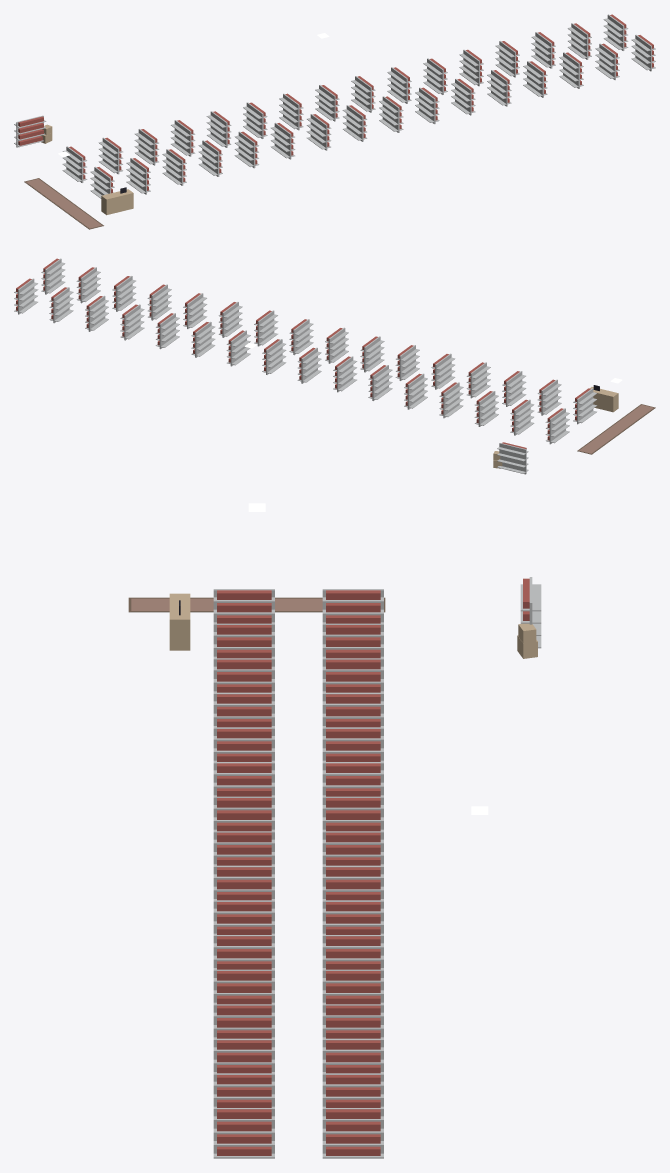
File: fine-s0.glb
The picture shows the model from 3 angles, top to bottom: view 1: azimuth 30°, elevation 25°; view 2: azimuth 150°, elevation 25°; view 3: azimuth 270°, elevation 25°; orthographic projection. The views are drawn at different scales.
Visible parts, largest first — view 1: soft-s0, shelving.000, shop-counter.000, shelf.005, shelf.006, shelf.026, shelf.008, shelf.010, shelf.013, shelf.017, shelf.002, shelf.009 (+23 smaller); view 2: soft-s0, shelving.000, shelf.004, shelf.008, shelf.026, shelf.015, shelf.024, shelf.007, shelf.013, shelf.031, shelf.000, shelf.002 (+23 smaller); view 3: shelf.030, shelf.031, shelf.002, shelf.003, shelf.006, shelf.007, shelf.012, shelf.013, shelf.016, shelf.017, shelf.022, shelf.023 (+23 smaller).
Boxes of the visible parts, <box> form: soft-s0: <box>24,178,103,229</box>; shelving.000: <box>14,115,46,147</box>; shop-counter.000: <box>101,187,133,215</box>; shelf.005: <box>162,149,186,185</box>; shelf.006: <box>170,120,195,156</box>; shelf.026: <box>531,32,555,68</box>; shelf.008: <box>206,111,231,147</box>; shelf.010: <box>243,102,267,138</box>; shelf.013: <box>306,114,331,150</box>; shelf.017: <box>379,96,403,132</box>; shelf.002: <box>98,137,123,174</box>; shelf.009: <box>234,131,259,168</box>; soft-s0: <box>577,404,655,454</box>; shelving.000: <box>497,442,528,474</box>; shelf.004: <box>474,391,498,426</box>; shelf.008: <box>404,373,427,409</box>; shelf.026: <box>85,295,108,331</box>; shelf.015: <box>325,327,348,363</box>; shelf.024: <box>120,304,144,340</box>; shelf.007: <box>466,362,490,398</box>; shelf.013: <box>360,336,384,372</box>; shelf.031: <box>41,258,65,294</box>; shelf.000: <box>545,408,569,444</box>; shelf.002: <box>510,399,534,435</box>; shelf.030: <box>322,1108,383,1158</box>; shelf.031: <box>213,1108,274,1158</box>; shelf.002: <box>322,623,383,658</box>; shelf.003: <box>213,623,274,658</box>; shelf.006: <box>322,692,383,727</box>; shelf.007: <box>213,692,274,727</box>; shelf.012: <box>322,796,383,831</box>; shelf.013: <box>213,796,274,831</box>; shelf.016: <box>322,865,383,900</box>; shelf.017: <box>213,865,274,900</box>; shelf.022: <box>322,969,383,1004</box>; shelf.023: <box>213,969,274,1004</box>.
Size of the model in its own units: 39.15 by 3.18 by 12.09.
